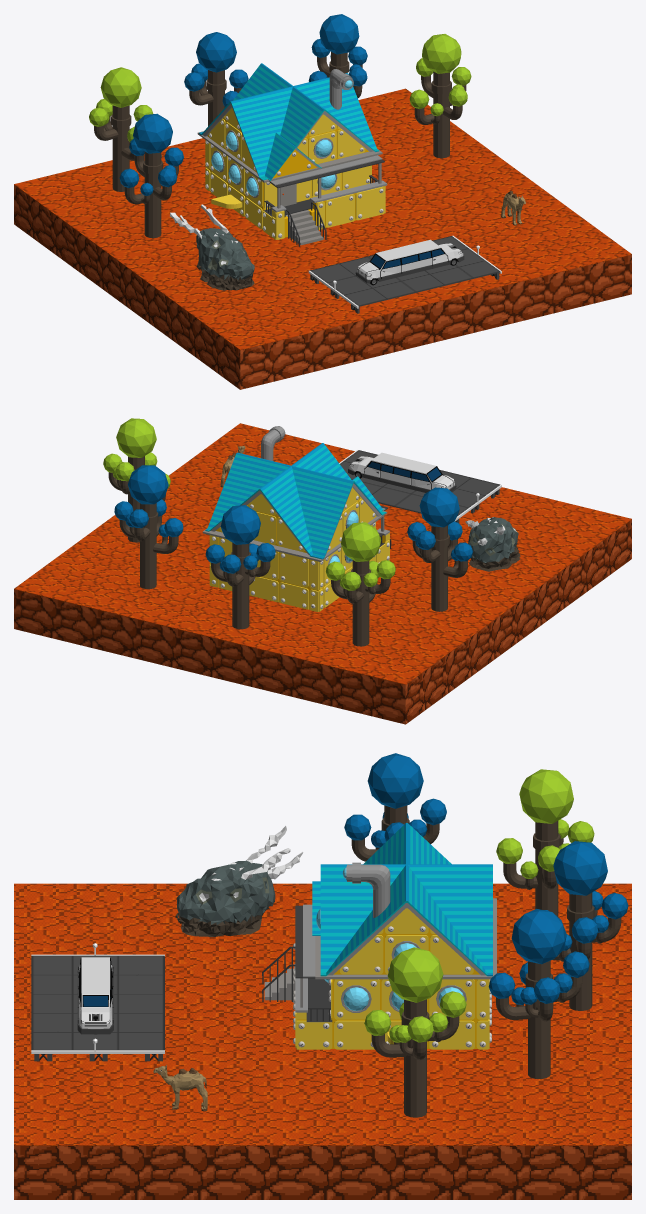
3 views of the same model, one above another, from view 1: azimuth 30°, elevation 25°; view 2: azimuth 150°, elevation 25°; view 3: azimuth 270°, elevation 25° (orthographic). The views are drawn at different scales.
Parts seen in each view (by area): view 1: Cube.001, Cube.1366, OBJRANDOM_METEORITE, VEHICLES_LIMOUSINE, ANIMAL_CAMELLO; view 2: Cube.001, Cube.1366, VEHICLES_LIMOUSINE, OBJRANDOM_METEORITE; view 3: Cube.001, Cube.1366, OBJRANDOM_METEORITE, VEHICLES_LIMOUSINE, ANIMAL_CAMELLO.
Part boxes in pixels (x1,y1,x2,y2): Cube.001: (14, 14, 631, 389); Cube.1366: (197, 63, 387, 246); OBJRANDOM_METEORITE: (170, 204, 254, 290); VEHICLES_LIMOUSINE: (355, 239, 464, 285); ANIMAL_CAMELLO: (501, 191, 525, 225); Cube.001: (14, 418, 631, 724); Cube.1366: (202, 426, 391, 611); VEHICLES_LIMOUSINE: (348, 452, 456, 492); OBJRANDOM_METEORITE: (465, 517, 520, 571); Cube.001: (14, 753, 631, 1199); Cube.1366: (262, 823, 496, 1049); OBJRANDOM_METEORITE: (175, 826, 303, 936); VEHICLES_LIMOUSINE: (77, 957, 113, 1034); ANIMAL_CAMELLO: (153, 1064, 207, 1111).
Bounding box in the file's own units: 4000 × 1811 × 4000.
35 materials, 4 textured.
